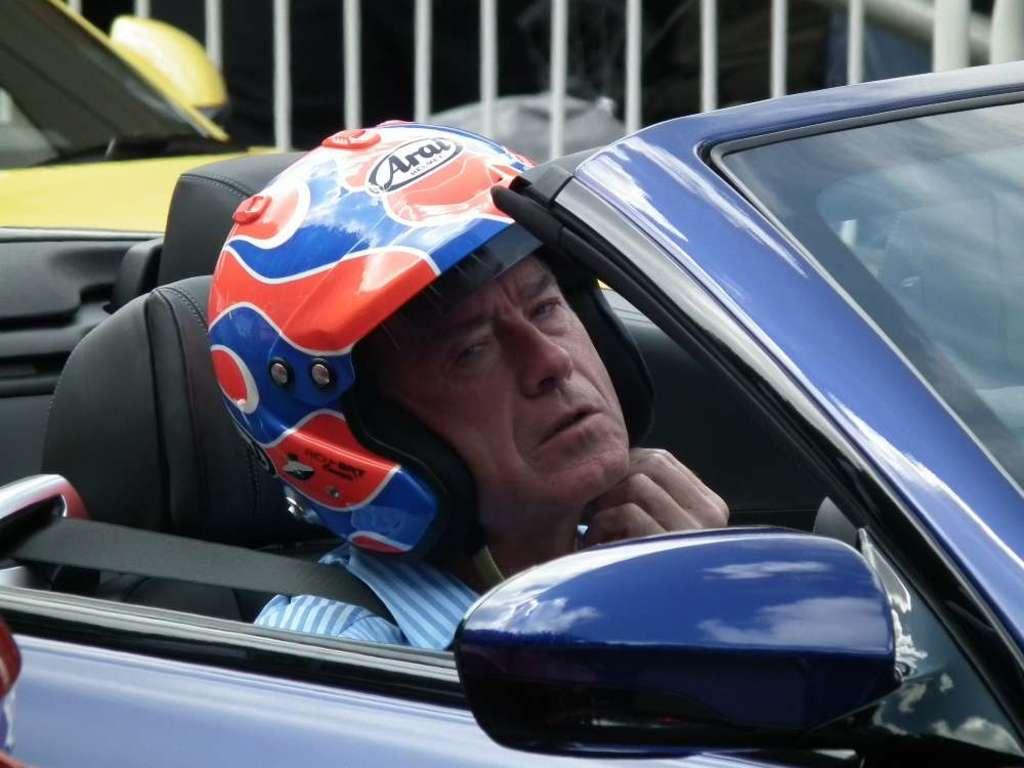helmet: (205, 117, 661, 571)
